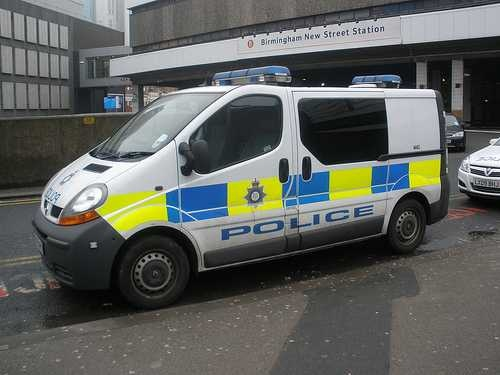Police Van: (26, 57, 459, 299)
